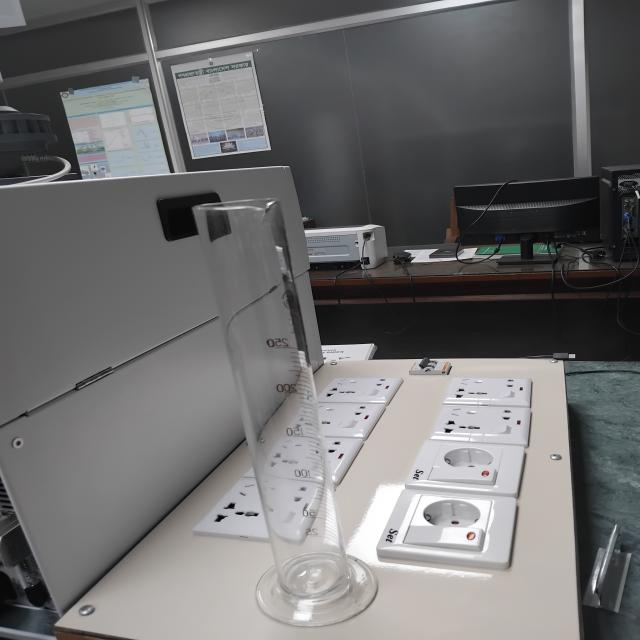Measuring_Cylinder: (148, 167, 421, 640)
